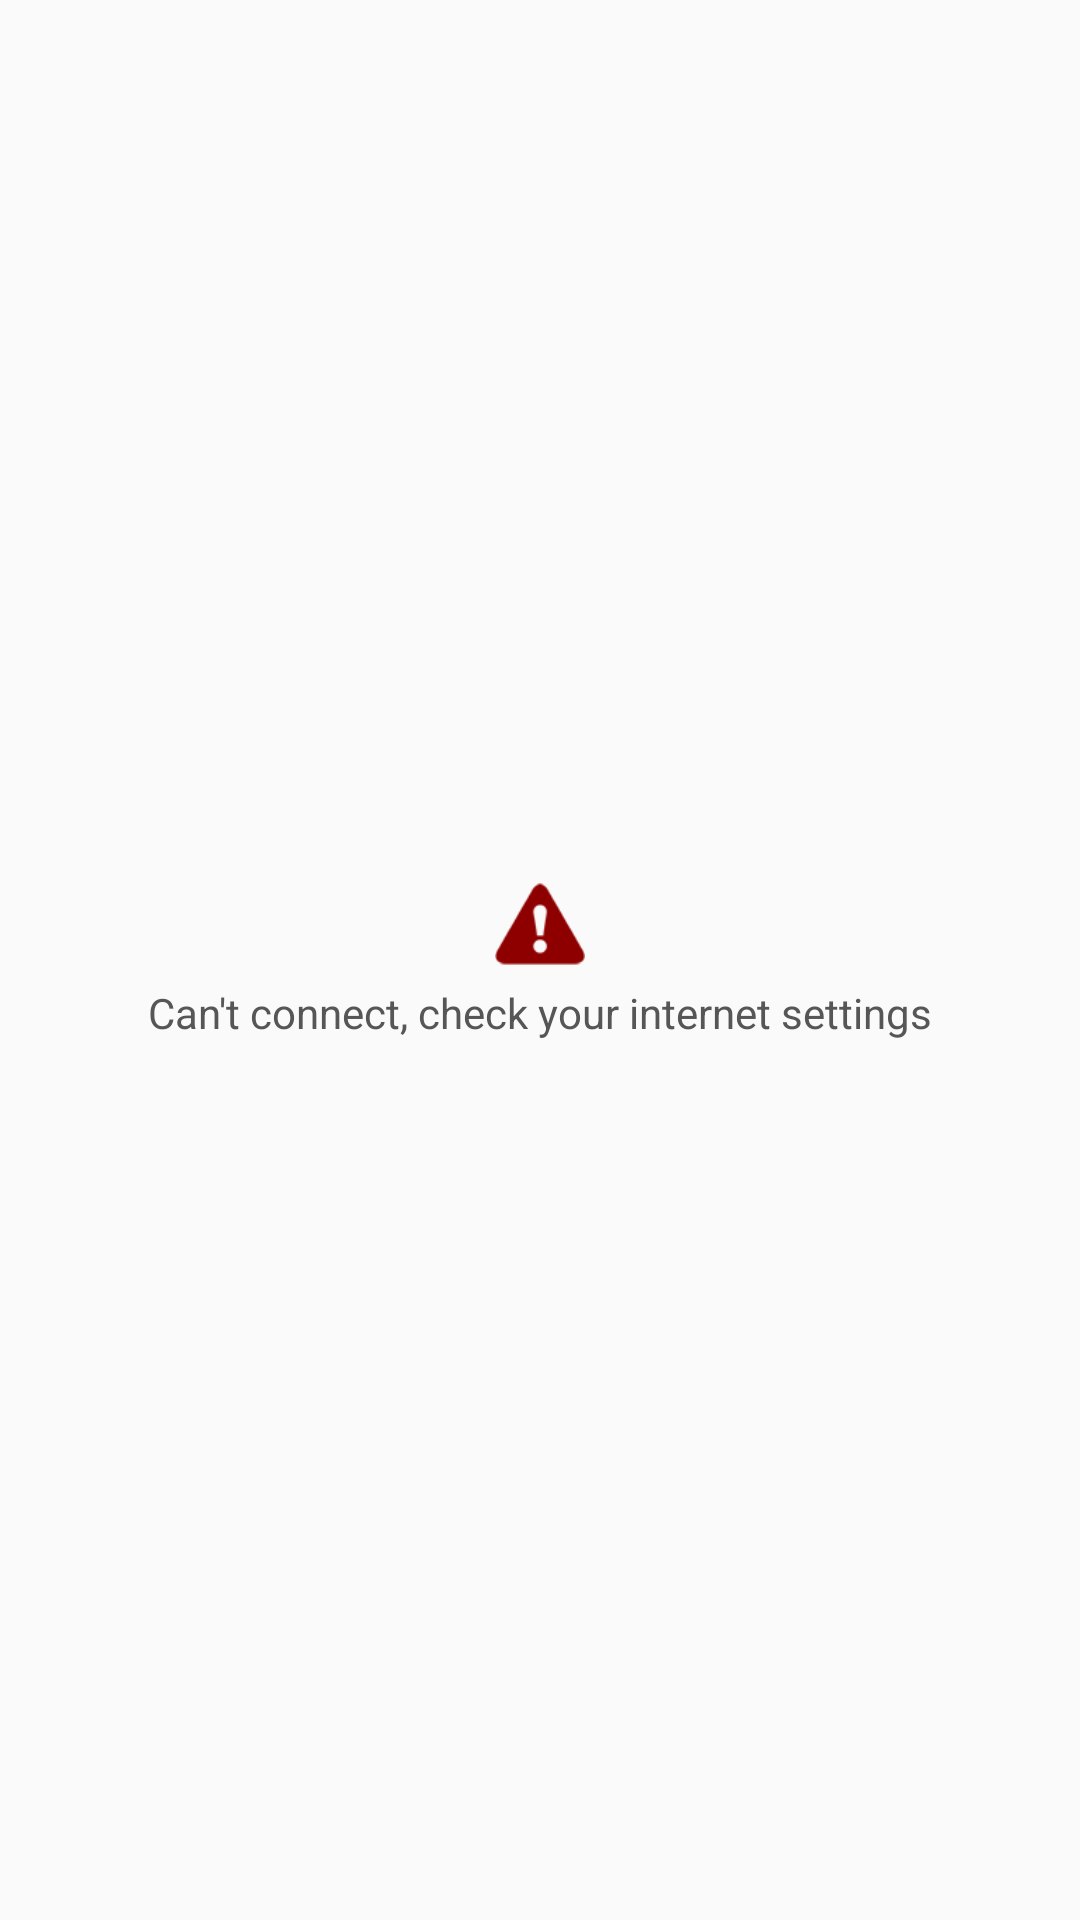

Icons on this 1080 × 1920 Android screen, each with the point to tap as (x,y):
Error icon: (540,924)
